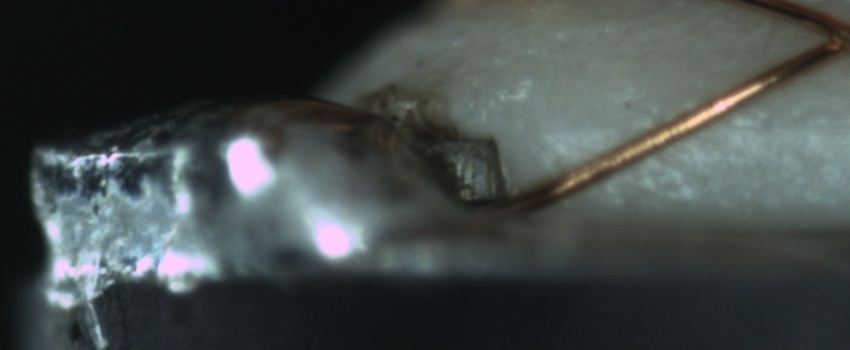CL: (796, 5, 850, 65)
DL: (552, 98, 850, 157)
